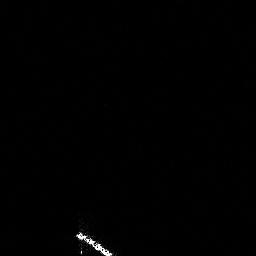ship: (74, 230, 116, 256)
